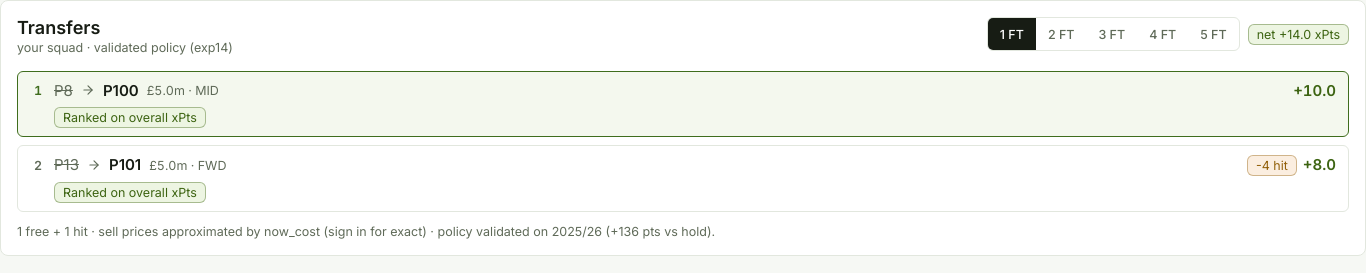
Scenario: UserTransferAdviceCard › FT toggle re-runs the advice with 2 free transfers
The width and height of the screenshot is (1366, 273).
Click the button "2 FT" at (1061, 34), box [1036,18,1086,50]
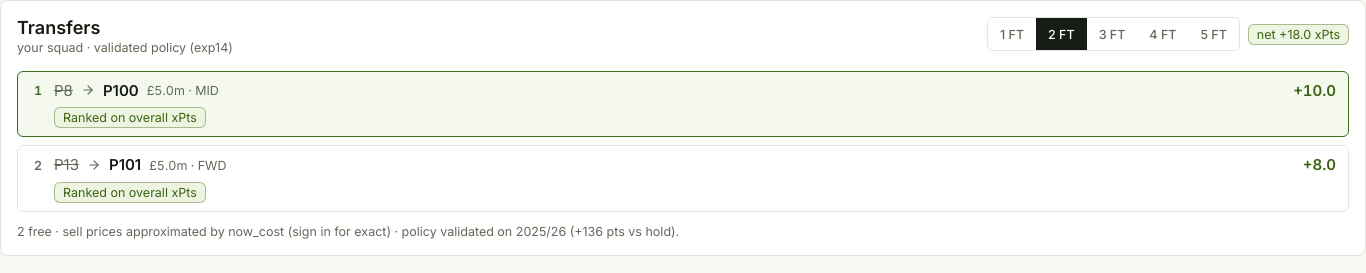
Check: the text "P101" is shown, box [109,154,141,176]
Check: the text "-4 hit" is gone
